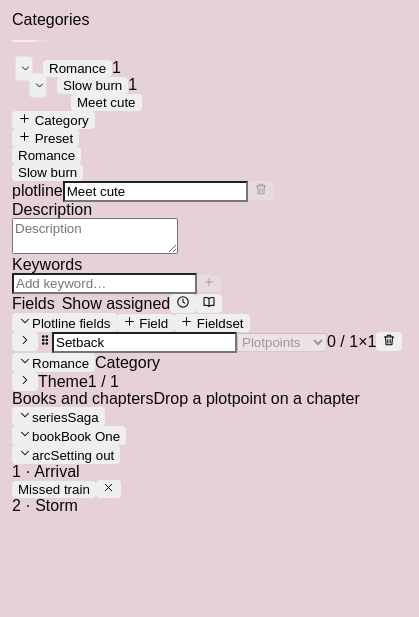
Test: the plotline editor: fields and values › hides placed values with the header toggle
The width and height of the screenshot is (419, 617).
Click the button named "Expand Setback" at point(25, 342), box [12,332,38,351]
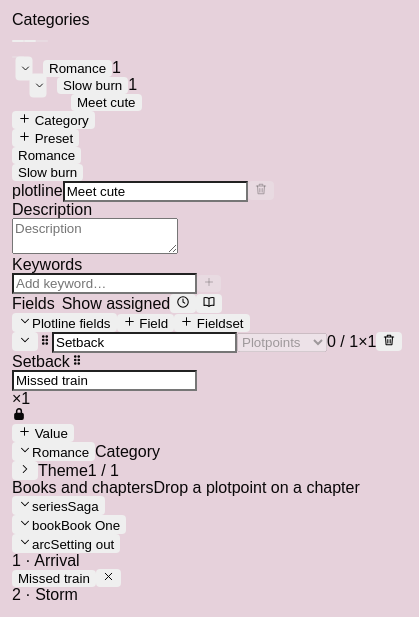
Click the switch labelled "Show assigned" at point(112, 304), box [55,295,170,312]
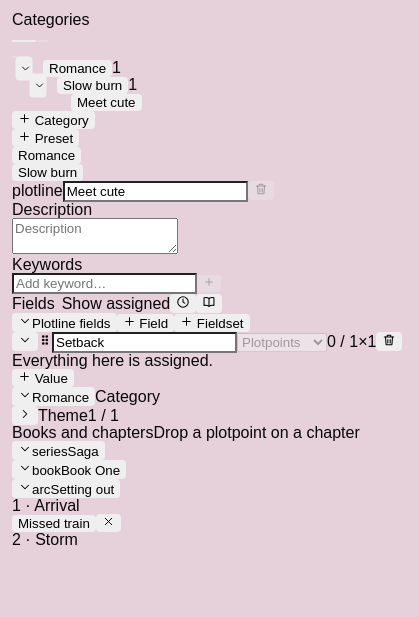
Expected: the text "Everything here is assigned." is shown, [12,352,213,369]
